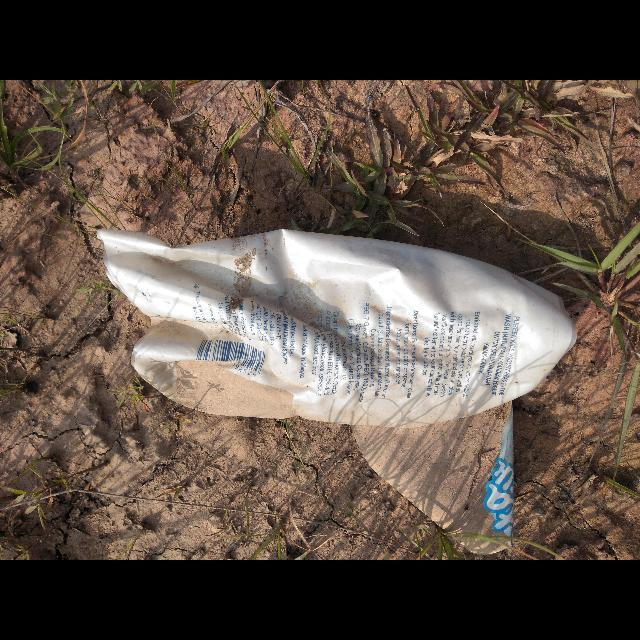Plastic: (97, 228, 577, 556)
